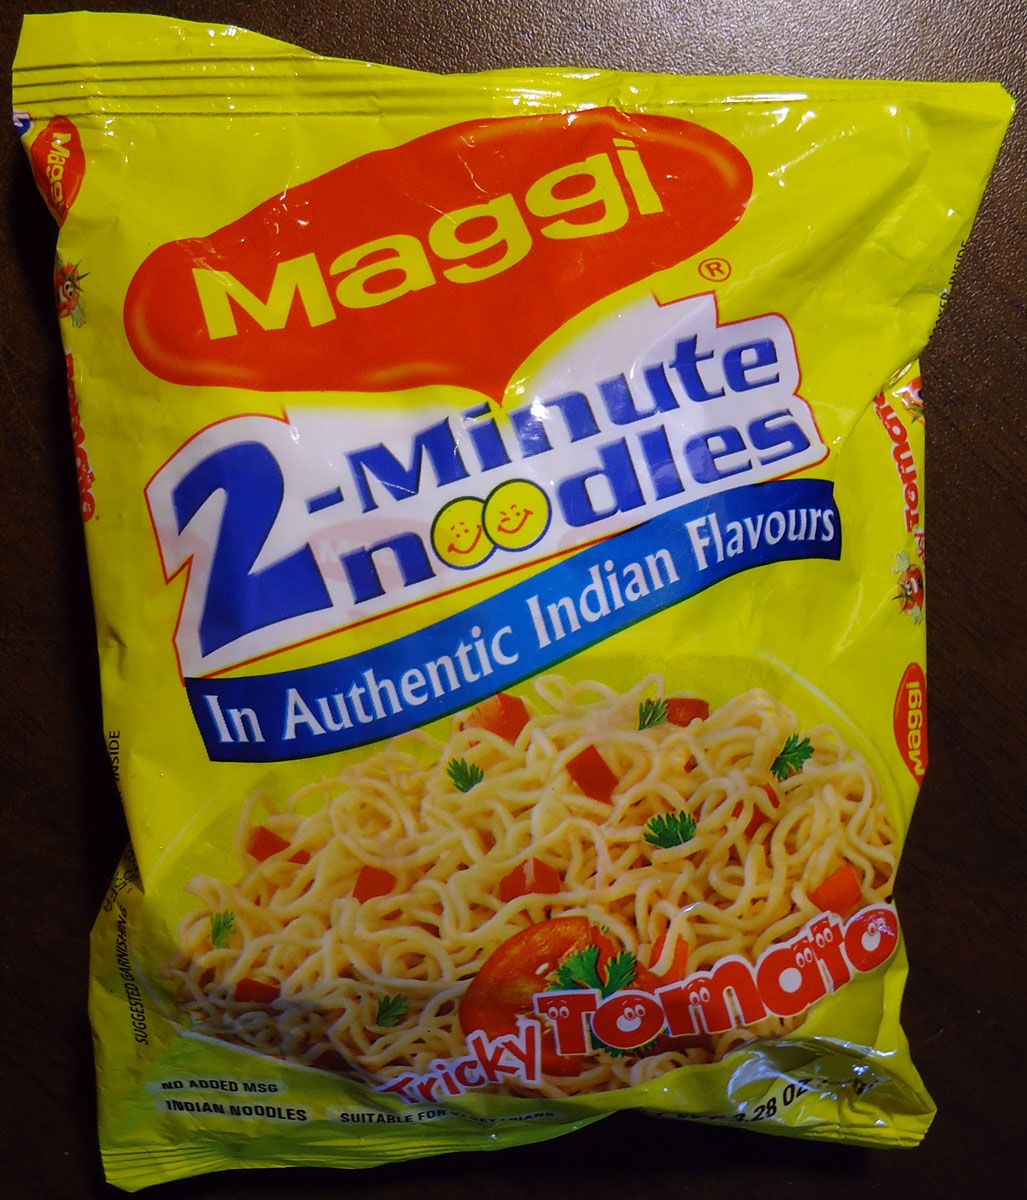maggi: (12, 13, 977, 1185)
